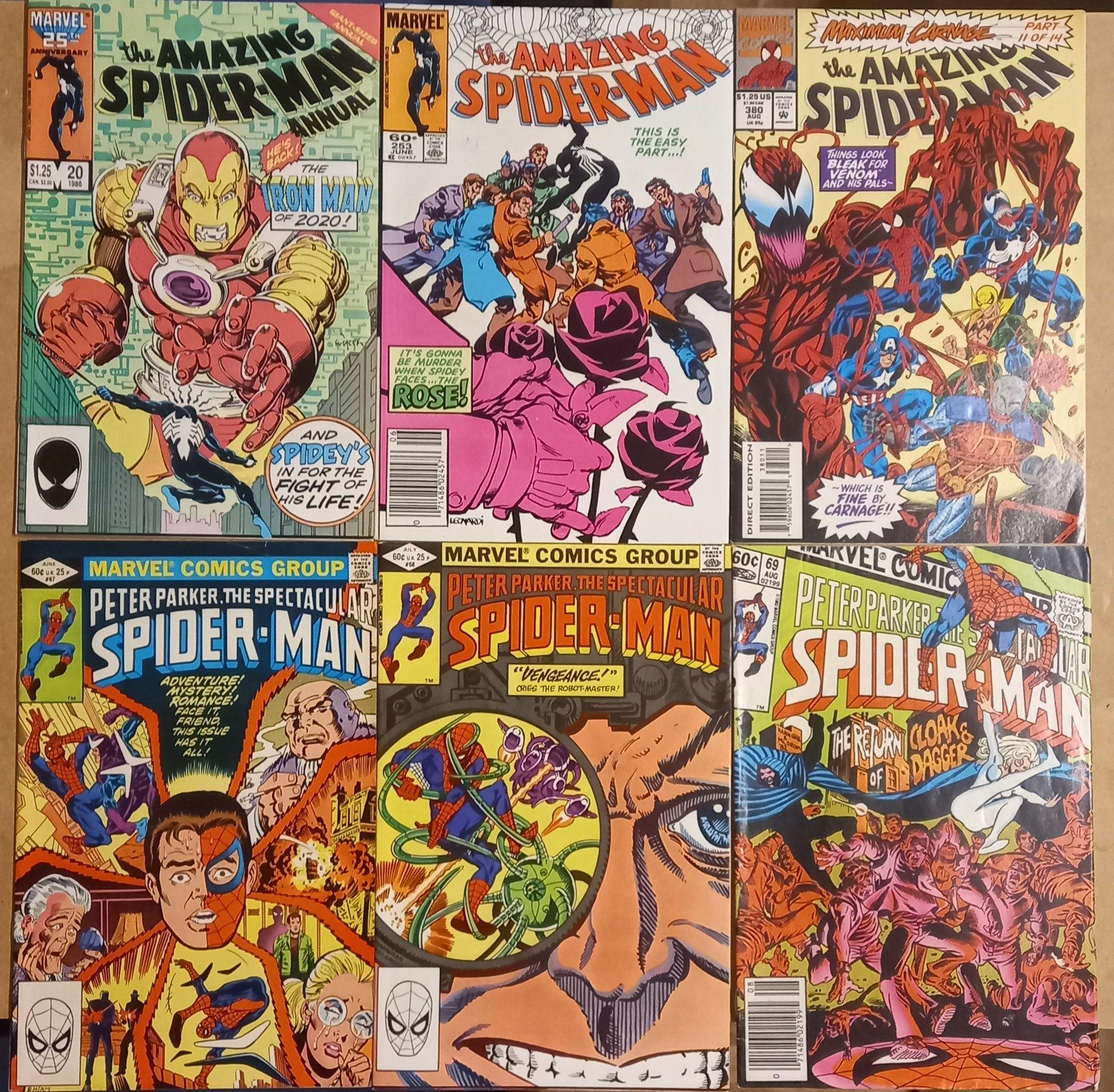comic: (9, 536, 381, 1092), (732, 543, 1098, 1091), (17, 0, 384, 539), (376, 542, 731, 1089), (378, 4, 735, 543), (732, 8, 1087, 544)
